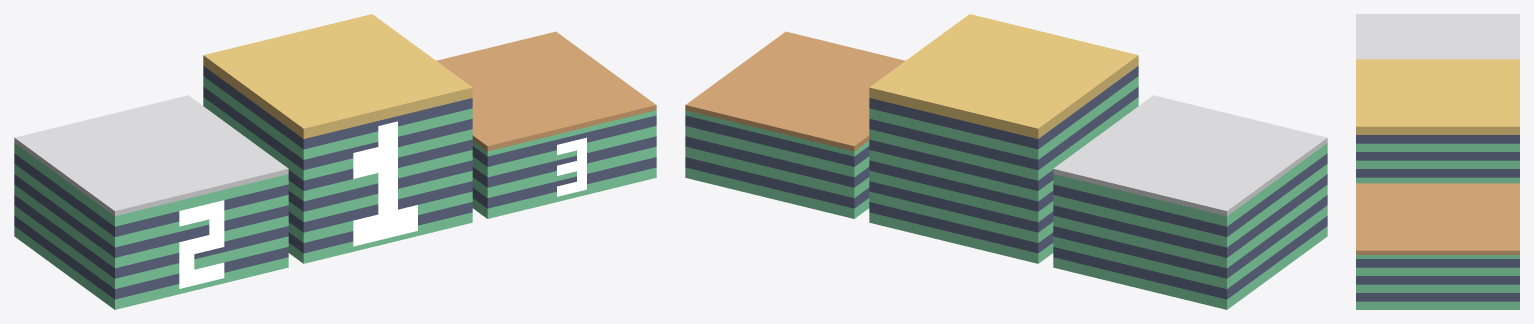
File: T14_Podium.glb
3 renders of one model, left to right at view 1: azimuth 30°, elevation 25°; view 2: azimuth 150°, elevation 25°; view 3: azimuth 270°, elevation 25°, orthographic. The views are drawn at different scales.
Visible parts, largest first — view 1: T14_Podium.001; view 2: T14_Podium.001; view 3: T14_Podium.001.
Part boxes in pixels (x1=…): T14_Podium.001: x1=14, y1=14, x2=656, y2=309; T14_Podium.001: x1=685, y1=14, x2=1327, y2=309; T14_Podium.001: x1=1356, y1=14, x2=1519, y2=309.
Size of the model in its own units: 7.63 by 1.82 by 2.45.
